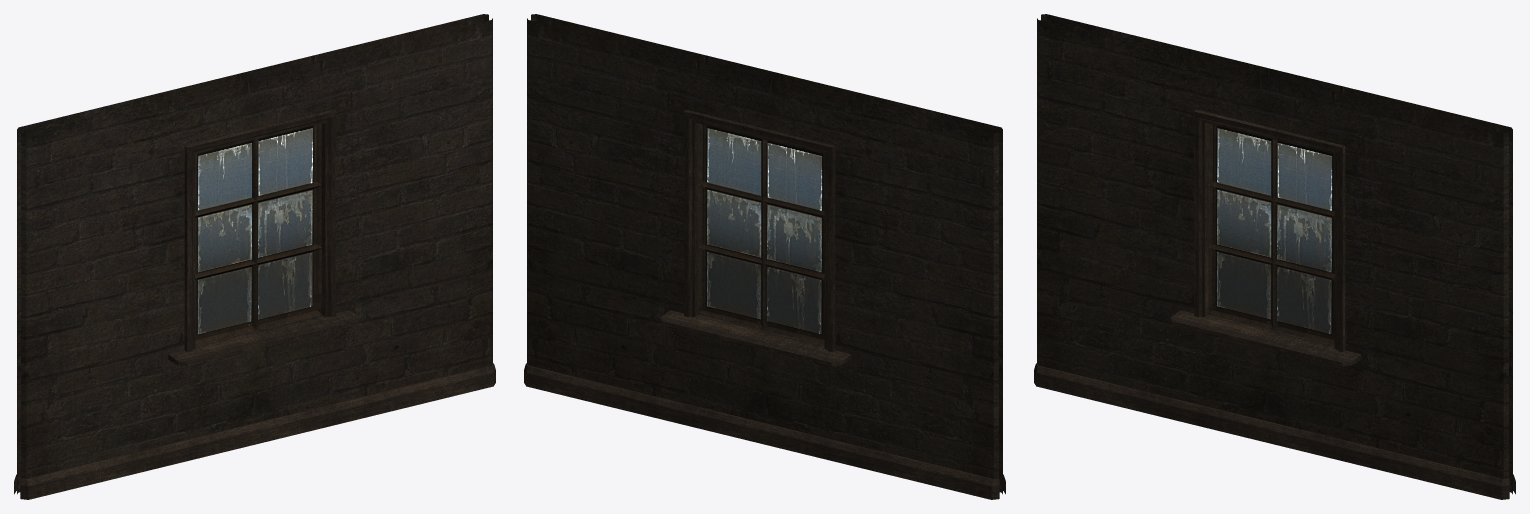
The model's file is window_1_single.fbx.
The picture shows the model from 3 angles, left to right: view 1: azimuth 30°, elevation 25°; view 2: azimuth 150°, elevation 25°; view 3: azimuth 330°, elevation 25°; orthographic projection.
Visible parts, largest first — view 1: window_1_single; view 2: window_1_single; view 3: window_1_single.
Part boxes in pixels (left/top/right/bottom): window_1_single: left=14, top=14, right=495, bottom=499; window_1_single: left=524, top=14, right=1005, bottom=499; window_1_single: left=1034, top=14, right=1515, bottom=499.
Size of the model in its own units: 4.09 by 0.52 by 3.
